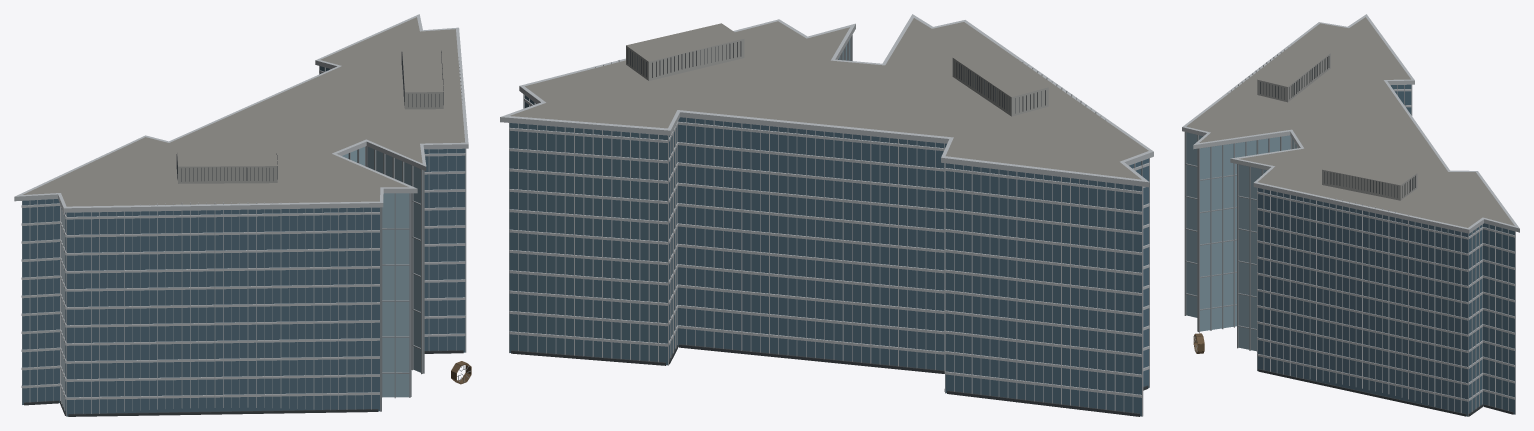
File: waterside_house_paddington.glb
The picture shows the model from 3 angles, left to right: view 1: azimuth 30°, elevation 25°; view 2: azimuth 150°, elevation 25°; view 3: azimuth 270°, elevation 25°; orthographic projection. The views are drawn at different scales.
Size of the model in its own units: 105 by 47.18 by 68.
